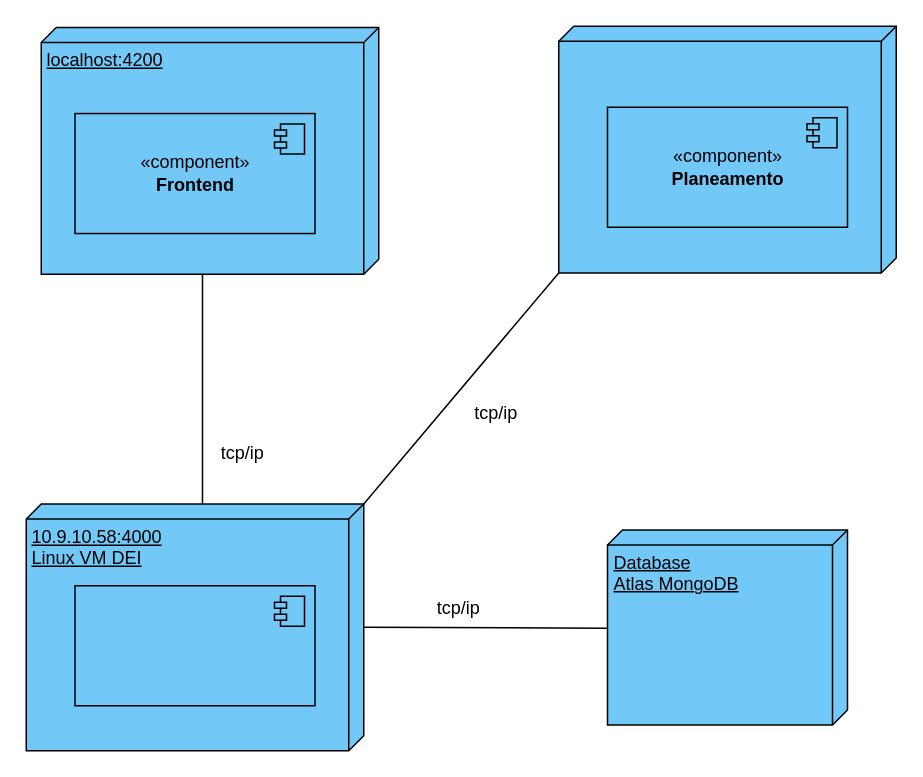
This 923x777 diagram has some shape labels left out. Each missing label, with the box of its shape:
10.9.11.58:8000 Windows VM DEI: (557, 25, 896, 273)
«component» MDRoboISEP: (74, 584, 315, 706)
